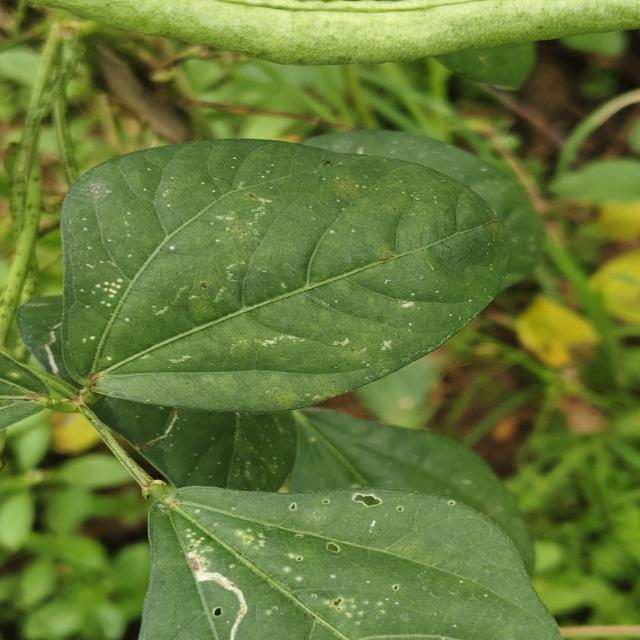leaf-low: (289, 410, 535, 574)
sitaw-aphid-high: (24, 131, 541, 413), (140, 486, 561, 640), (103, 403, 327, 492)
